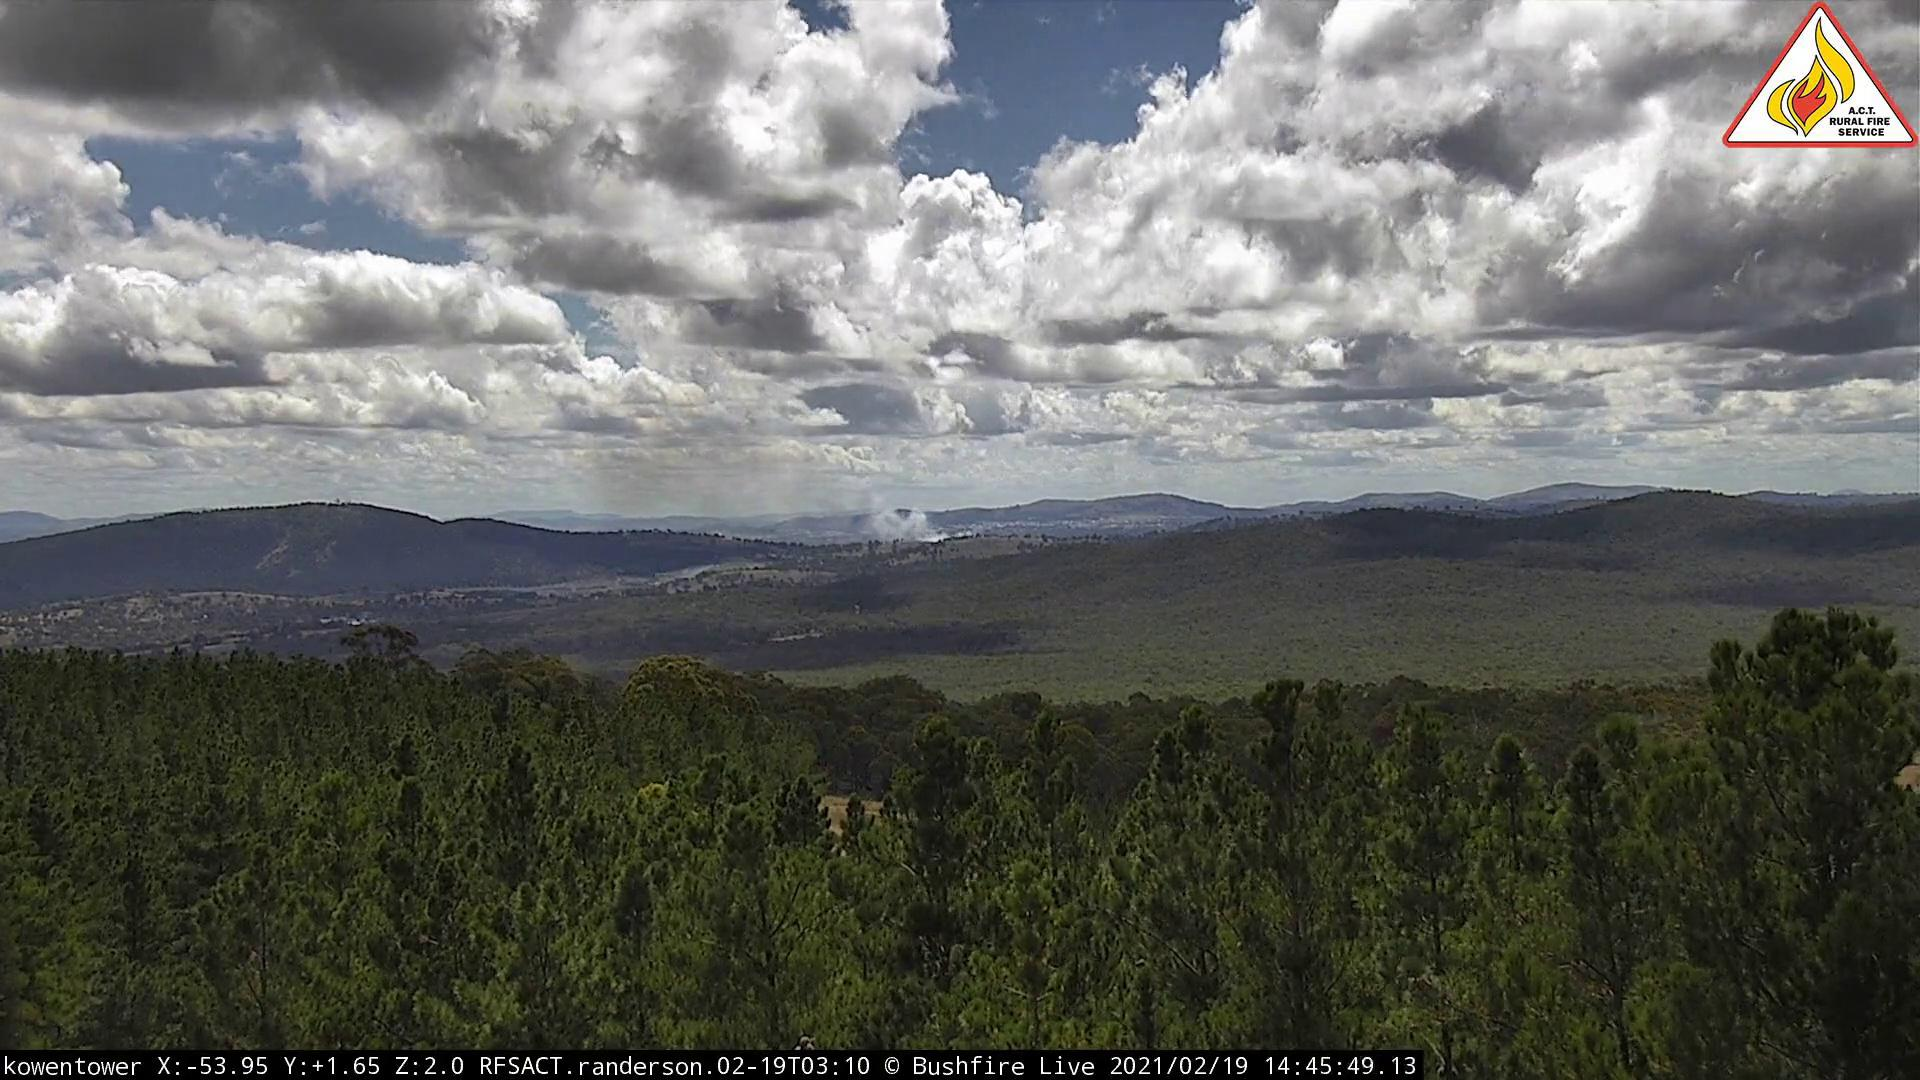Smoke: (541, 421, 988, 551)
